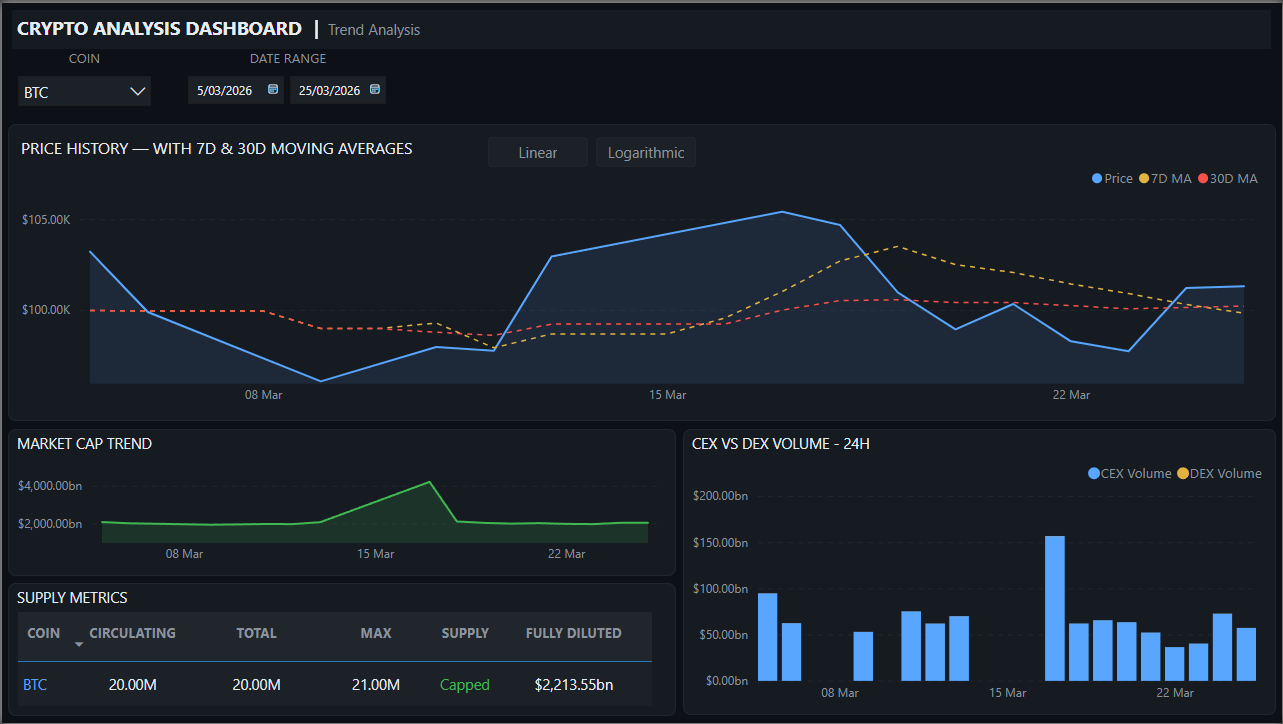

What the dashboard file says about the page in this screenshot:
{"tool":"powerbi","page":{"name":"Trend Analysis","canvas":[1280,720],"ordinal":2},"visuals":[{"type":"slicer","title":"COIN","fields":{"Values":["dim_coin.symbol"]},"box":[6,46,153,68],"z":0},{"type":"slicer","title":"DATE RANGE","fields":{"Values":["dim_date.Date"]},"box":[173,46,226,67],"z":1000},{"type":"lineChart","title":"PRICE HISTORY — WITH 7D & 30D MOVING AVERAGES","fields":{"Y":["_Measures.Latest Price","_Measures.MA Price 7D","_Measures.MA Price 30D"],"Category":["dim_date.Date"]},"box":[6,121,1268,297],"z":2000},{"type":"areaChart","title":"MARKET CAP TREND","fields":{"Y":["Sum(fact_coin_prices.aud_market_cap)"],"Category":["dim_date.Date"]},"box":[6,426,668,147],"z":4000},{"type":"columnChart","title":"CEX VS DEX VOLUME - 24H","fields":{"Category":["dim_date.Date"],"Y":["Sum(fact_coin_prices.aud_cex_volume_24h)","Sum(fact_coin_prices.aud_dex_volume_24h)"]},"box":[681,426,593,286],"z":5000},{"type":"tableEx","title":"SUPPLY METRICS","fields":{"Values":["dim_coin.symbol","Max(fact_coin_prices.circulating_supply)","Max(fact_coin_prices.total_supply)","Max(dim_coin.max_supply)","dim_coin.Infinite Supply Label","Max(fact_coin_prices.aud_fully_diluted_market_cap)"]},"box":[6,580,668,133],"z":6000},{"type":"actionButton","box":[593.9,134.3,100,29.2],"z":7000},{"type":"actionButton","box":[486.4,134.3,100,29.2],"z":8000},{"type":"textbox","box":[10,7,1259,39],"z":9000}]}

Visuals, with their boxes in screenshot pixels (x1, y1, x2, y2), scaled from the page's 1280x720 canvas onto the 1283x724 screenshot:
"COIN" slicer: [6, 46, 159, 115]
"DATE RANGE" slicer: [173, 46, 400, 114]
"PRICE HISTORY — WITH 7D & 30D MOVING AVERAGES" lineChart: [6, 122, 1277, 420]
"MARKET CAP TREND" areaChart: [6, 428, 676, 576]
"CEX VS DEX VOLUME - 24H" columnChart: [683, 428, 1277, 716]
"SUPPLY METRICS" tableEx: [6, 583, 676, 717]
actionButton: [595, 135, 696, 164]
actionButton: [488, 135, 588, 164]
textbox: [10, 7, 1272, 46]
